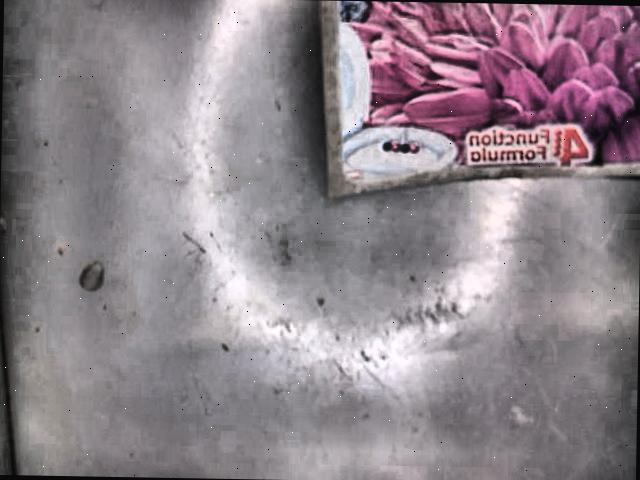Paper: (318, 0, 640, 207)
